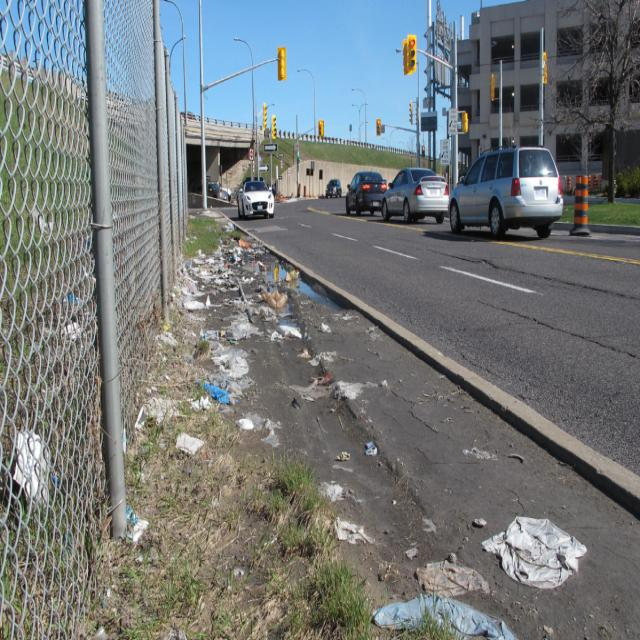garbage: (0, 192, 595, 640)
